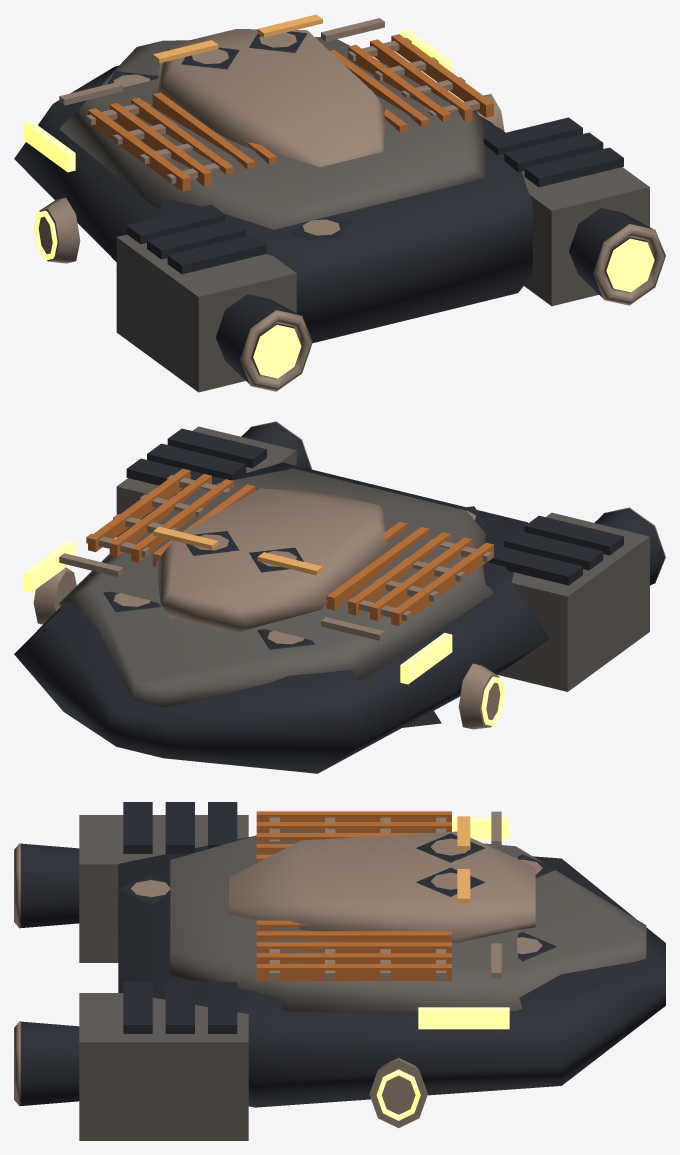
The model's file is compact_high_gravity--warp_scout--lod1.glb.
The picture shows the model from 3 angles, top to bottom: view 1: azimuth 30°, elevation 25°; view 2: azimuth 150°, elevation 25°; view 3: azimuth 270°, elevation 25°; orthographic projection. The views are drawn at different scales.
Parts seen in each view (by area): view 1: load_bearing_wedge_1, stepped_main_plate_2, reinforced_command_deck_3, armored_drive_block_4, armored_drive_block_25, engine_shroud_26, engine_shroud_5, nozzle_rim_6, nozzle_rim_27, drive_grille_41, drive_grille_20, integral_docking_collar_22 (+21 smaller); view 2: load_bearing_wedge_1, stepped_main_plate_2, reinforced_command_deck_3, armored_drive_block_4, armored_drive_block_25, drive_grille_18, integral_docking_collar_22, drive_grille_19, drive_grille_20, drive_grille_41, drive_grille_40, deck_load_rib_16 (+18 smaller); view 3: load_bearing_wedge_1, stepped_main_plate_2, reinforced_command_deck_3, armored_drive_block_25, armored_drive_block_4, engine_shroud_26, engine_shroud_5, deck_load_rib_37, integral_docking_collar_43, deck_load_rib_31, navigation_inlay_45, deck_load_rib_16 (+16 smaller).
Boxes of the visible parts, x1,y1,x2,y2 form: load_bearing_wedge_1: [14, 65, 532, 343]; stepped_main_plate_2: [59, 37, 493, 229]; reinforced_command_deck_3: [156, 29, 385, 166]; armored_drive_block_4: [116, 234, 296, 392]; armored_drive_block_25: [522, 167, 649, 306]; engine_shroud_26: [569, 208, 652, 297]; engine_shroud_5: [215, 294, 298, 384]; nozzle_rim_6: [240, 310, 312, 391]; nozzle_rim_27: [593, 224, 665, 305]; drive_grille_41: [524, 147, 623, 187]; drive_grille_20: [167, 234, 266, 274]; integral_docking_collar_22: [38, 197, 80, 263]; load_bearing_wedge_1: [14, 462, 548, 773]; stepped_main_plate_2: [59, 468, 493, 707]; reinforced_command_deck_3: [156, 488, 387, 633]; armored_drive_block_4: [498, 512, 649, 691]; armored_drive_block_25: [116, 426, 296, 537]; drive_grille_18: [488, 545, 582, 585]; integral_docking_collar_22: [458, 663, 500, 729]; drive_grille_19: [504, 530, 603, 570]; drive_grille_20: [524, 515, 623, 555]; drive_grille_41: [167, 428, 266, 468]; drive_grille_40: [147, 443, 246, 480]; deck_load_rib_16: [391, 542, 493, 626]; load_bearing_wedge_1: [118, 836, 665, 1107]; stepped_main_plate_2: [170, 829, 646, 1011]; reinforced_command_deck_3: [229, 831, 535, 942]; armored_drive_block_25: [79, 993, 248, 1140]; armored_drive_block_4: [79, 815, 248, 962]; engine_shroud_26: [20, 1021, 79, 1105]; engine_shroud_5: [20, 843, 79, 927]; deck_load_rib_37: [256, 964, 451, 980]; integral_docking_collar_43: [369, 1057, 427, 1128]; deck_load_rib_31: [256, 931, 451, 942]; navigation_inlay_45: [418, 1007, 509, 1029]; deck_load_rib_16: [256, 811, 451, 821].
Bounding box in the file's own units: 96 × 36 × 116.
